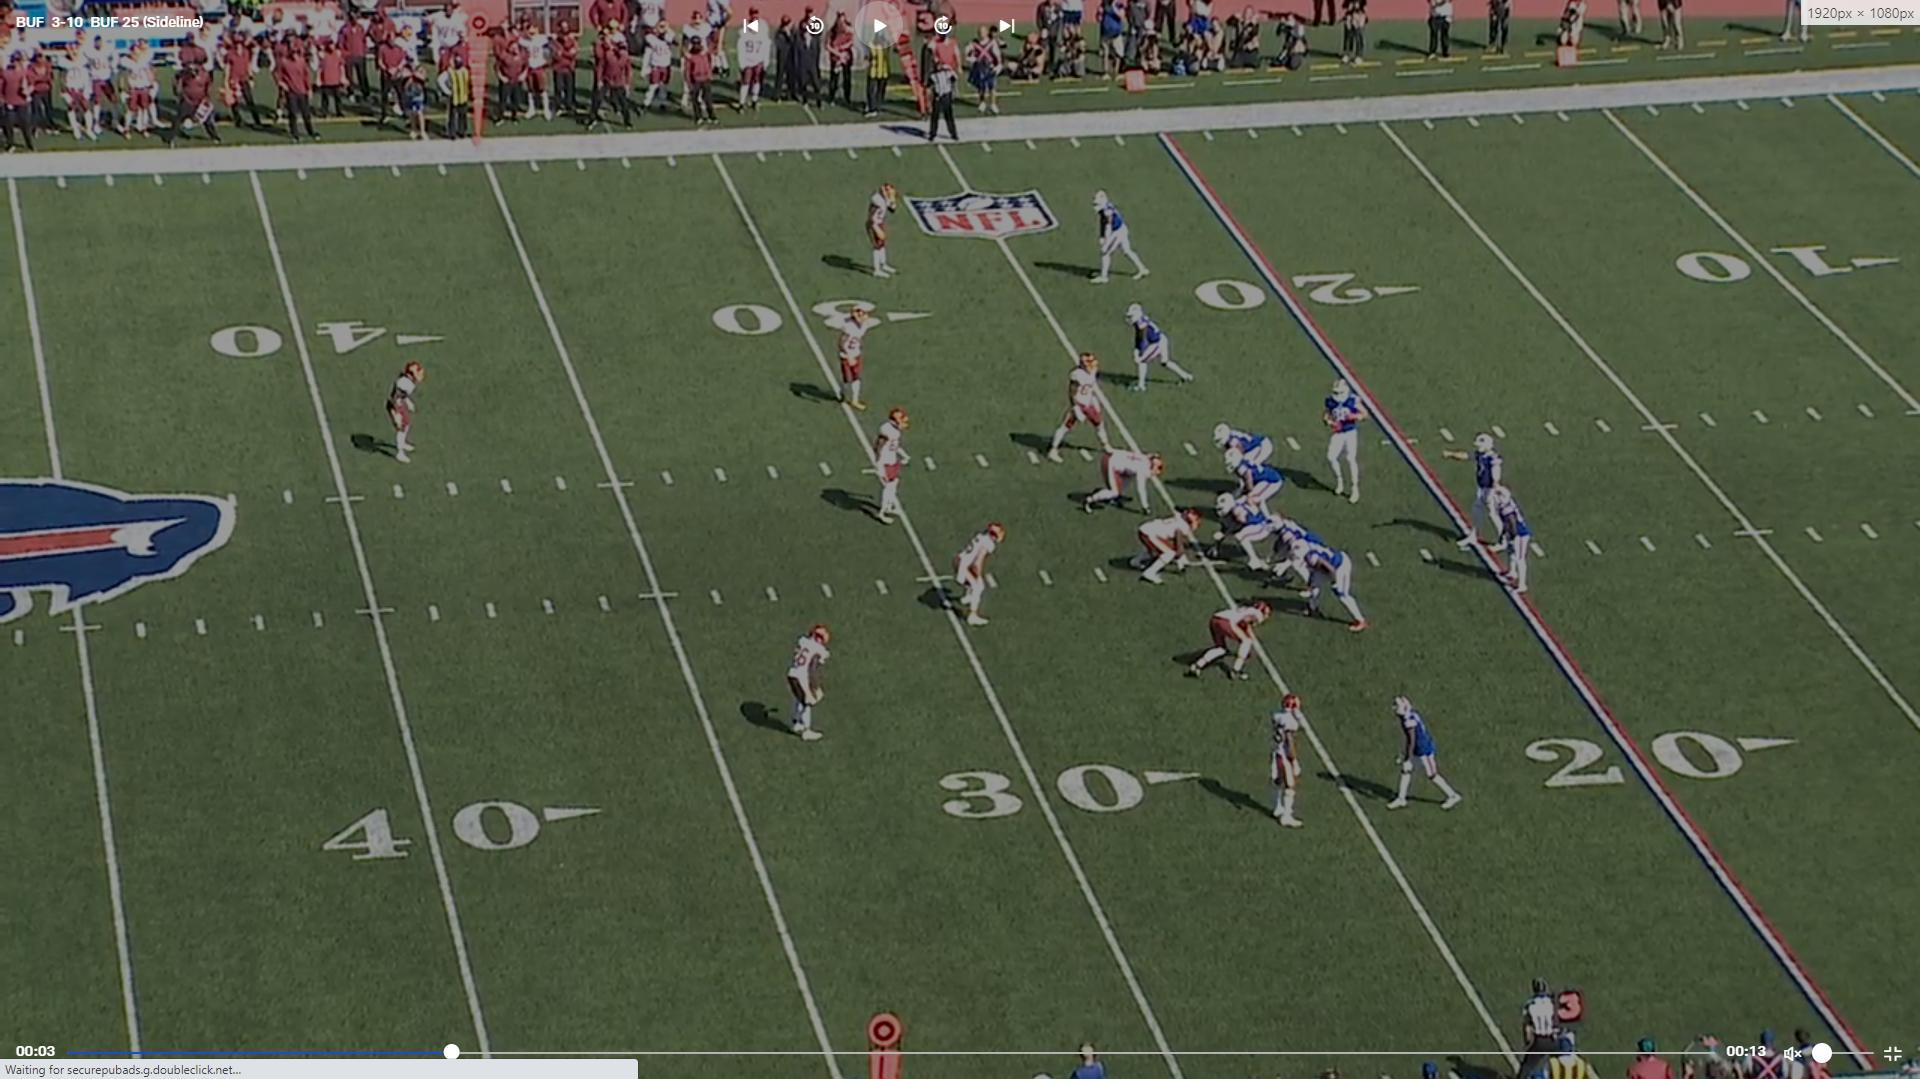defense: (1186, 599, 1278, 684), (1045, 351, 1113, 462), (787, 619, 840, 746), (1266, 693, 1313, 836), (1076, 449, 1163, 520), (949, 522, 1004, 632), (1123, 504, 1196, 583), (386, 359, 433, 471), (869, 407, 911, 529), (861, 180, 903, 283), (836, 312, 873, 418)
oline: (1297, 539, 1377, 635), (1207, 489, 1279, 572), (1264, 516, 1323, 599), (1217, 425, 1279, 493), (1232, 454, 1289, 518)
qb: (1462, 427, 1506, 554)
ref: (1514, 972, 1568, 1055), (924, 59, 963, 149)
skill: (1385, 694, 1467, 817), (1126, 303, 1200, 394), (1084, 188, 1150, 286), (1322, 387, 1369, 508), (1490, 482, 1538, 598)
